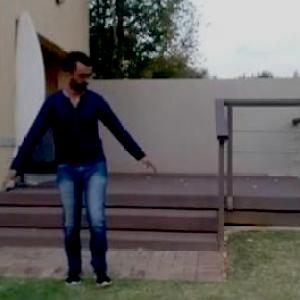land: (1, 39, 154, 286)
